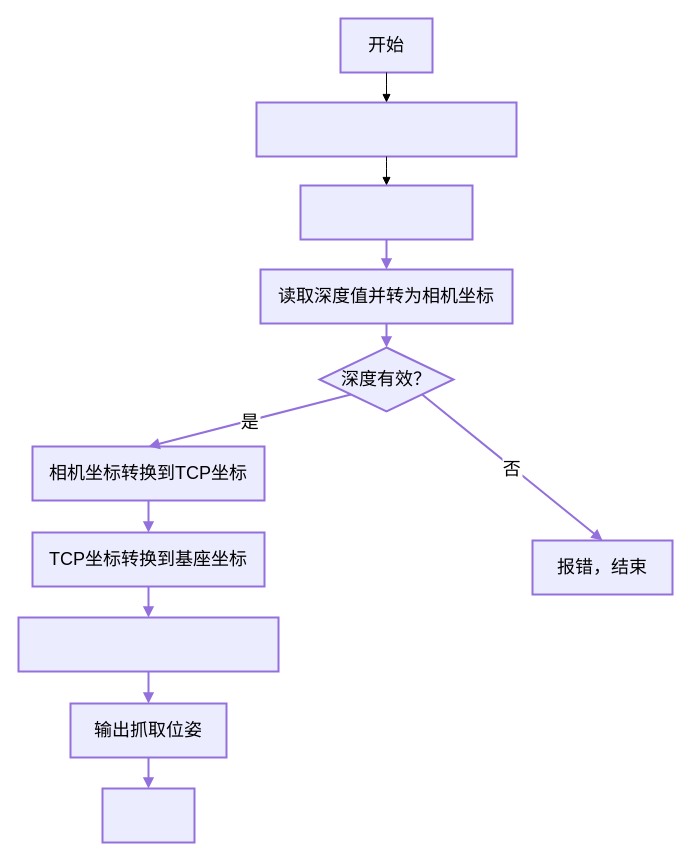
Some shapes in this 690 by 860 pixel diagram are drawn without their labels. The shapes that lost their labels are listed below. From the top down, each one's centre as x and y in pixels, then its label:
the point at 386,129: 输入参数：cx, cy, θ, 深度图, 相机内参, 变换矩阵, 当前末端姿态
the point at 386,212: 畸变校正像素点
the point at 148,644: 计算末端旋转矩阵并转换为旋转向量
the point at 148,815: 结束
